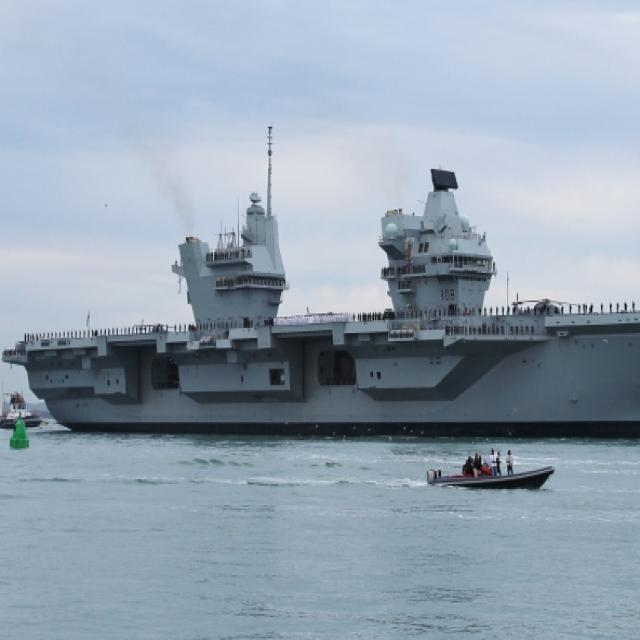Portanaves: (1, 141, 640, 448)
